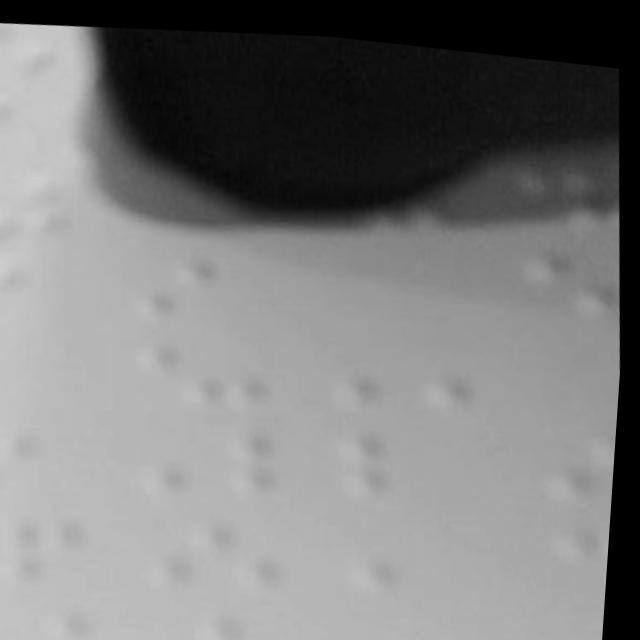braiile: (334, 405, 501, 506), (345, 497, 507, 597), (331, 313, 494, 411), (139, 490, 293, 592), (132, 313, 285, 414), (138, 404, 289, 505), (128, 233, 285, 329), (0, 409, 97, 505), (0, 499, 99, 592), (350, 585, 508, 640), (0, 241, 83, 336), (147, 589, 293, 640), (0, 79, 78, 170), (0, 17, 71, 83)
